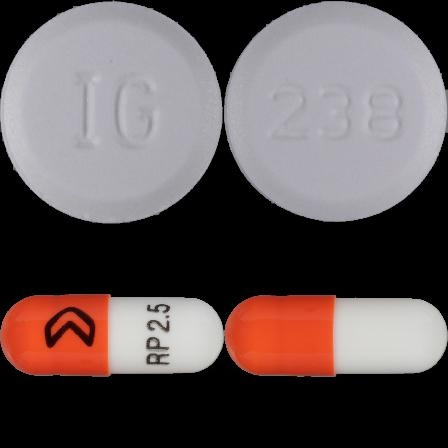68084-259: (0, 0, 224, 224)
